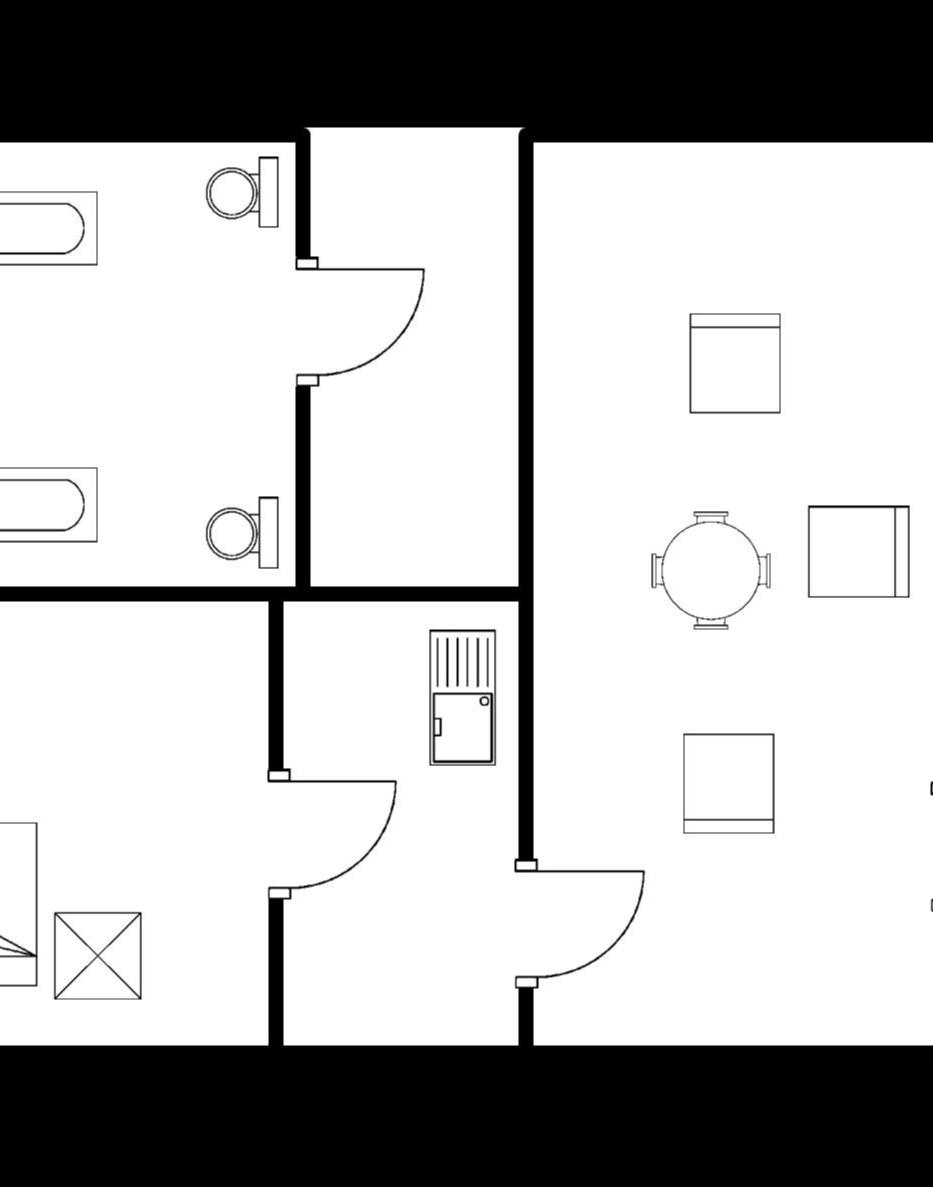bed: (0, 808, 43, 990)
round_table: (636, 501, 781, 639)
sink: (417, 619, 509, 776)
toilet: (198, 487, 286, 575), (201, 149, 285, 240)
tub: (0, 456, 105, 551), (0, 183, 105, 273)
